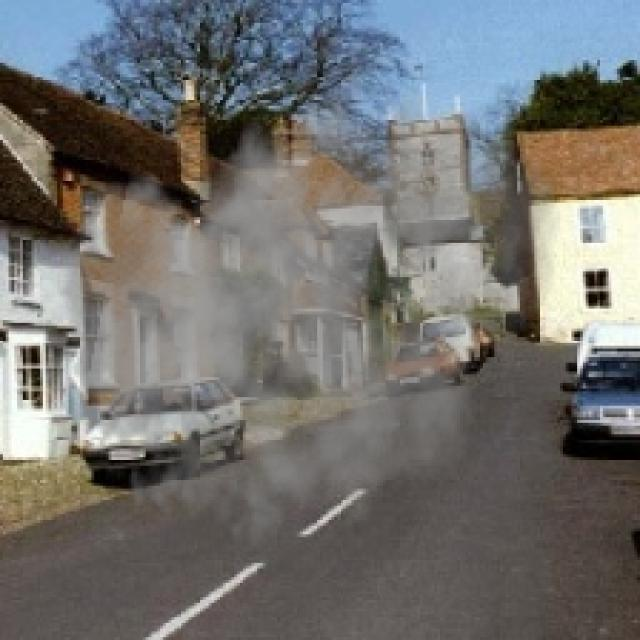smoke: (48, 46, 563, 566)
